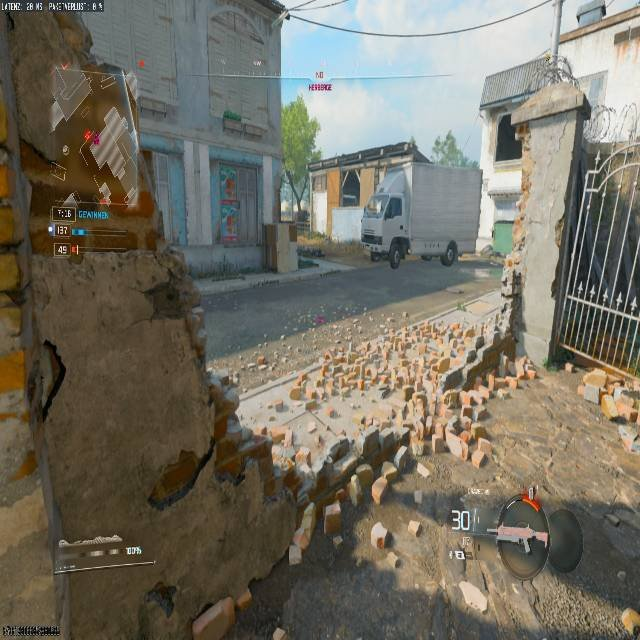player: (386, 231, 411, 270), (442, 239, 459, 265)
